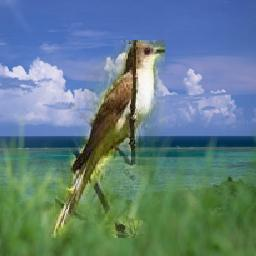Cuckoo: (51, 40, 165, 238)
